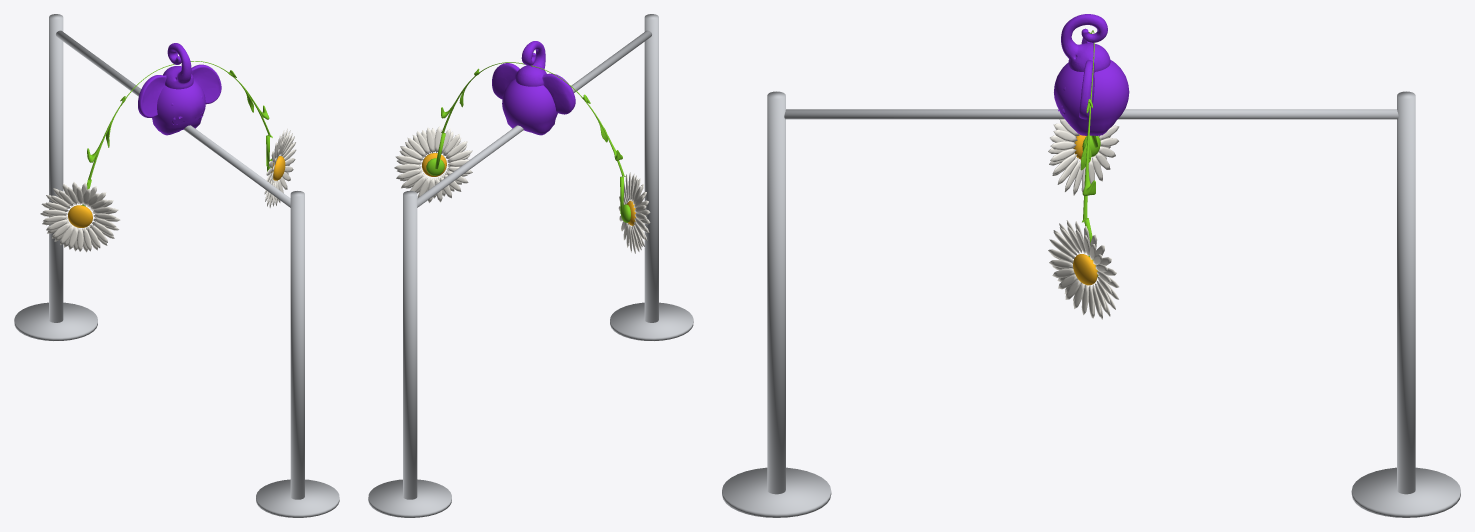
File: lphanty-ar.glb
The picture shows the model from 3 angles, left to right: view 1: azimuth 30°, elevation 25°; view 2: azimuth 150°, elevation 25°; view 3: azimuth 270°, elevation 25°; orthographic projection. The views are drawn at different scales.
Visible parts, largest first — view 1: Poste, LPhanty, Poste.001, Margarita_izq, Base, Base.001, Cuerda, Margarita_der, output_unwrapped.004, output_unwrapped.003; view 2: LPhanty, Poste.001, Poste, Margarita_der, Base.001, Base, Cuerda, Margarita_izq, output_unwrapped.004; view 3: Poste, Poste.001, LPhanty, Cuerda, Margarita_der, Base, Base.001, Margarita_izq, output_unwrapped.003.
Boxes of the visible parts, box(x1,y1,x2,y2) form: Poste: box(290, 191, 304, 499); LPhanty: box(138, 43, 221, 135); Poste.001: box(49, 14, 63, 322); Margarita_izq: box(40, 182, 120, 252); Base: box(256, 479, 339, 517); Base.001: box(14, 302, 97, 340); Cuerda: box(56, 30, 290, 207); Margarita_der: box(264, 128, 296, 207); output_unwrapped.004: box(87, 64, 174, 182); output_unwrapped.003: box(190, 61, 272, 137); LPhanty: box(492, 41, 575, 135); Poste.001: box(403, 191, 417, 499); Poste: box(644, 14, 658, 322); Margarita_der: box(394, 126, 472, 202); Base.001: box(368, 479, 451, 517); Base: box(610, 302, 693, 340); Cuerda: box(417, 30, 651, 207); Margarita_izq: box(618, 172, 650, 253); output_unwrapped.004: box(531, 65, 626, 177); Poste: box(767, 91, 785, 494); Poste.001: box(1397, 91, 1415, 494); LPhanty: box(1054, 14, 1129, 135); Cuerda: box(784, 109, 1398, 119); Margarita_der: box(1048, 220, 1119, 319); Base: box(722, 467, 831, 517); Base.001: box(1351, 467, 1460, 517); Margarita_izq: box(1048, 119, 1119, 195); output_unwrapped.003: box(1080, 43, 1095, 222).
Size of the model in its own units: 0.9105 by 1.26 by 1.76.
